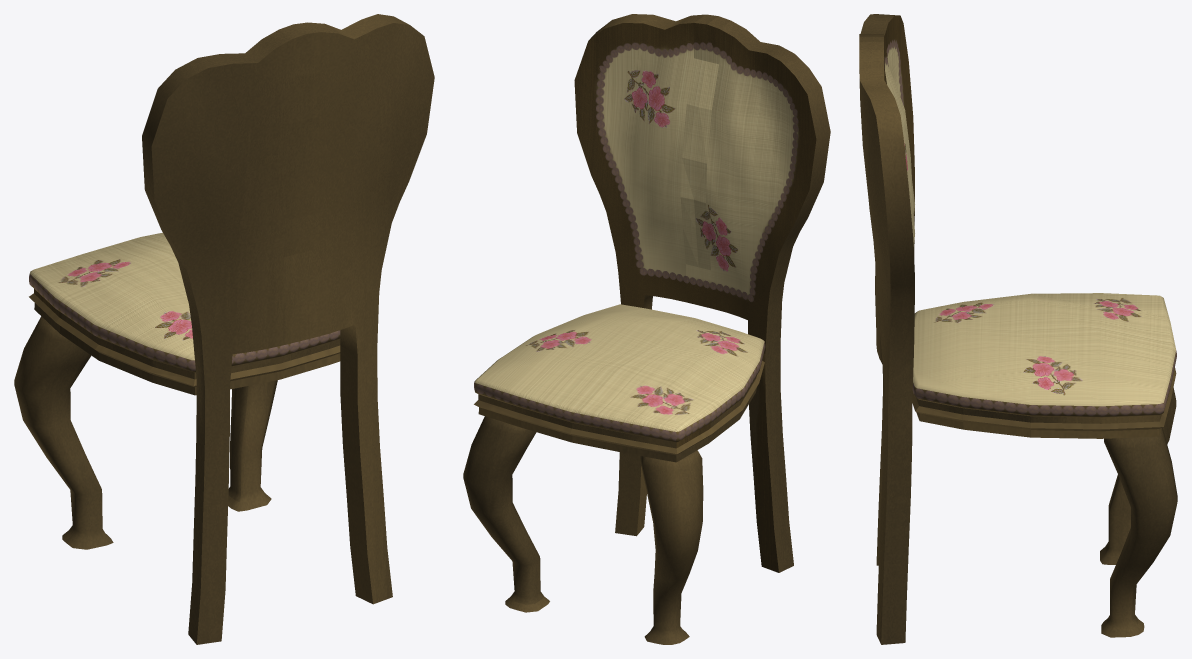
File: FancyChair.FBX
The picture shows the model from 3 angles, left to right: view 1: azimuth 30°, elevation 25°; view 2: azimuth 150°, elevation 25°; view 3: azimuth 270°, elevation 25°; orthographic projection. The views are drawn at different scales.
Visible parts, largest first — view 1: Seat001; view 2: Seat001; view 3: Seat001.
Part boxes in pixels (x1,y1,x2,y2): Seat001: [14, 14, 434, 644]; Seat001: [463, 14, 830, 644]; Seat001: [859, 14, 1177, 644].
Size of the model in its own units: 66.31 by 133 by 68.91.
